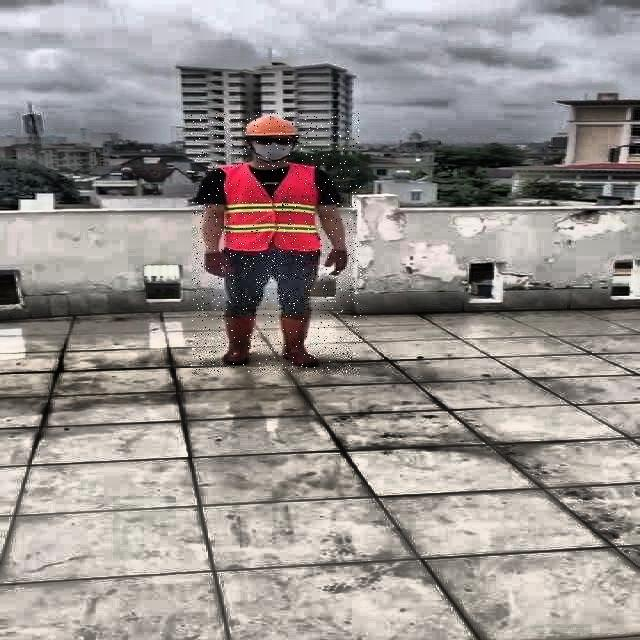safety_helmet: (238, 112, 300, 138)
safety_jacket: (222, 165, 320, 250)
